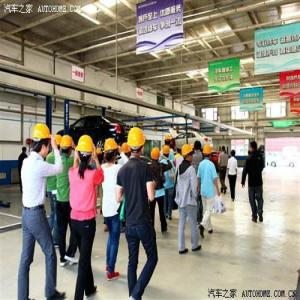none: (250, 140, 259, 154), (195, 140, 203, 152), (231, 150, 237, 158), (221, 146, 227, 152)
yellow: (30, 124, 52, 159), (129, 128, 146, 161), (78, 135, 94, 166), (104, 138, 119, 163), (61, 135, 74, 157), (182, 145, 194, 164), (151, 145, 161, 163), (204, 146, 213, 159), (163, 146, 171, 159), (165, 135, 173, 146)
